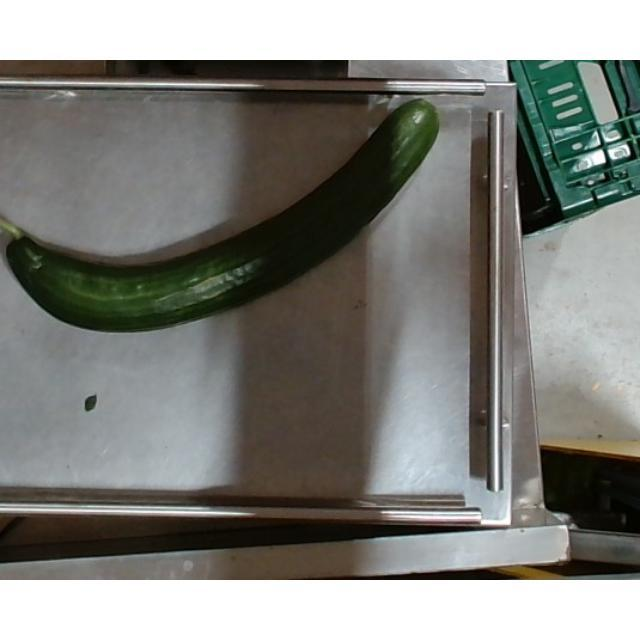cucumber: (2, 99, 442, 334)
